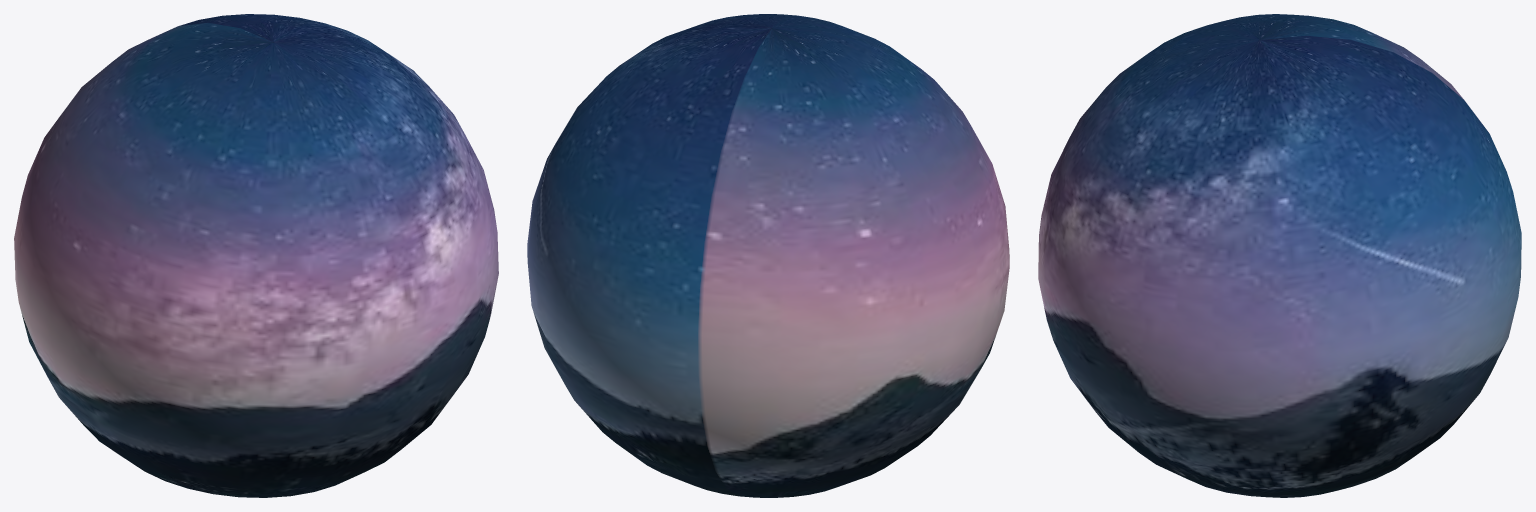
3 views of the same model, side by side, from view 1: azimuth 30°, elevation 25°; view 2: azimuth 150°, elevation 25°; view 3: azimuth 270°, elevation 25° (orthographic).
Visible parts, largest first — view 1: 球体; view 2: 球体; view 3: 球体.
Boxes of the visible parts, <box> form: 球体: <box>14,14,498,497</box>; 球体: <box>527,14,1009,497</box>; 球体: <box>1038,14,1521,497</box>.
Size of the model in its own units: 2 by 1.99 by 1.99.
Materials: 1 (1 with a texture image).
